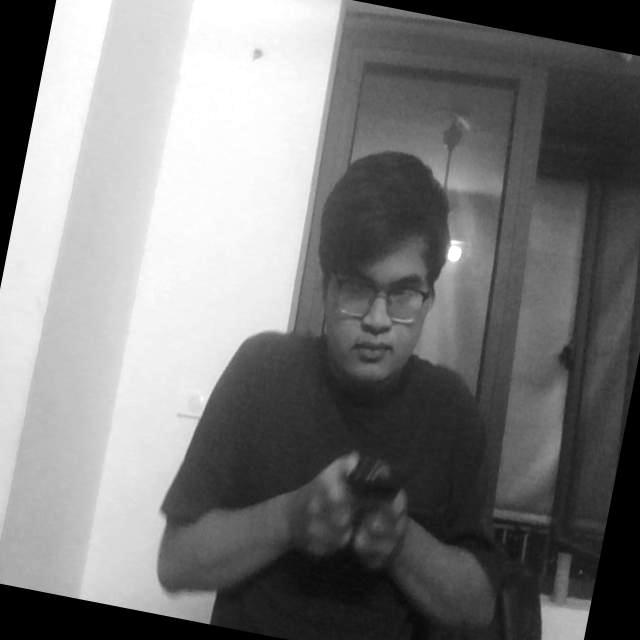phone: (318, 437, 414, 519)
